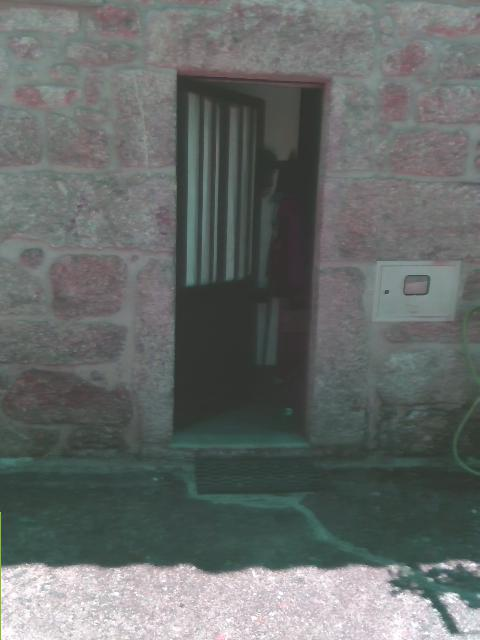semi_door: (167, 71, 331, 447)
